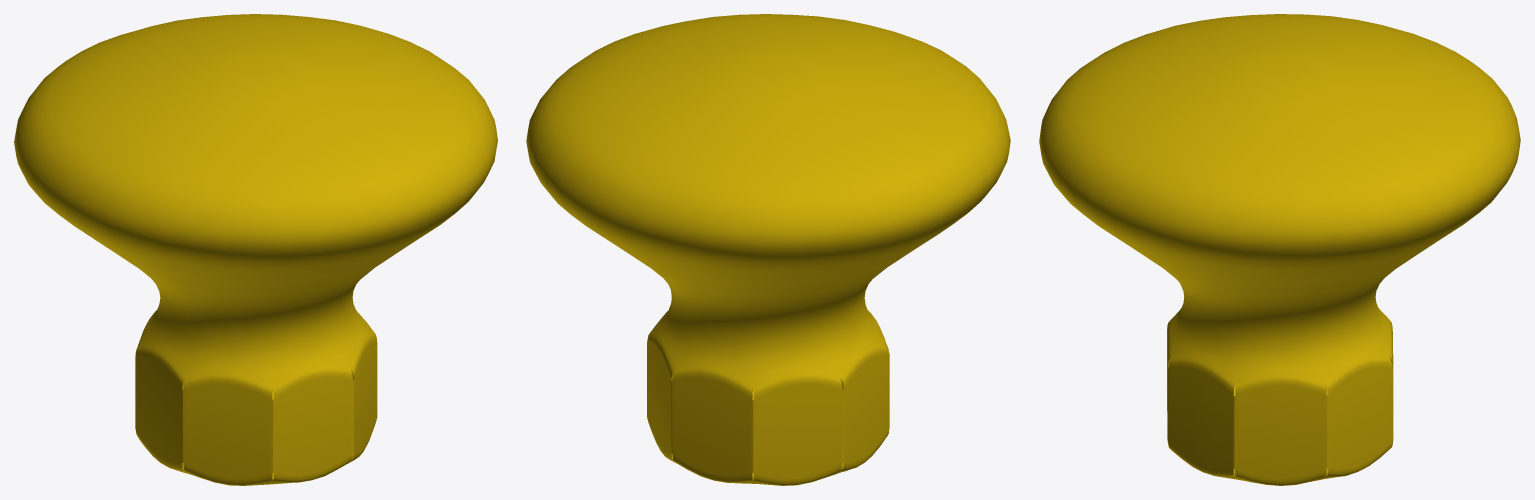
Rendered from original-2.obj.
The picture shows the model from 3 angles, left to right: view 1: azimuth 30°, elevation 25°; view 2: azimuth 150°, elevation 25°; view 3: azimuth 270°, elevation 25°; orthographic projection.
Parts seen in each view (by area): view 1: #ID8; view 2: #ID8; view 3: #ID8.
Boxes of the visible parts, x1,y1,x2,y2 form: #ID8: (14,14,497,485); #ID8: (526,14,1010,485); #ID8: (1039,14,1520,485).
Bounding box in the file's own units: 0.2188 × 0.1897 × 0.2192.
